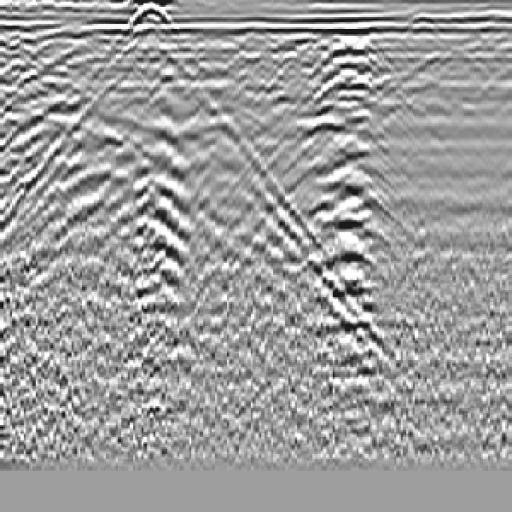non-metallic: (20, 4, 293, 234), (258, 18, 423, 381)
